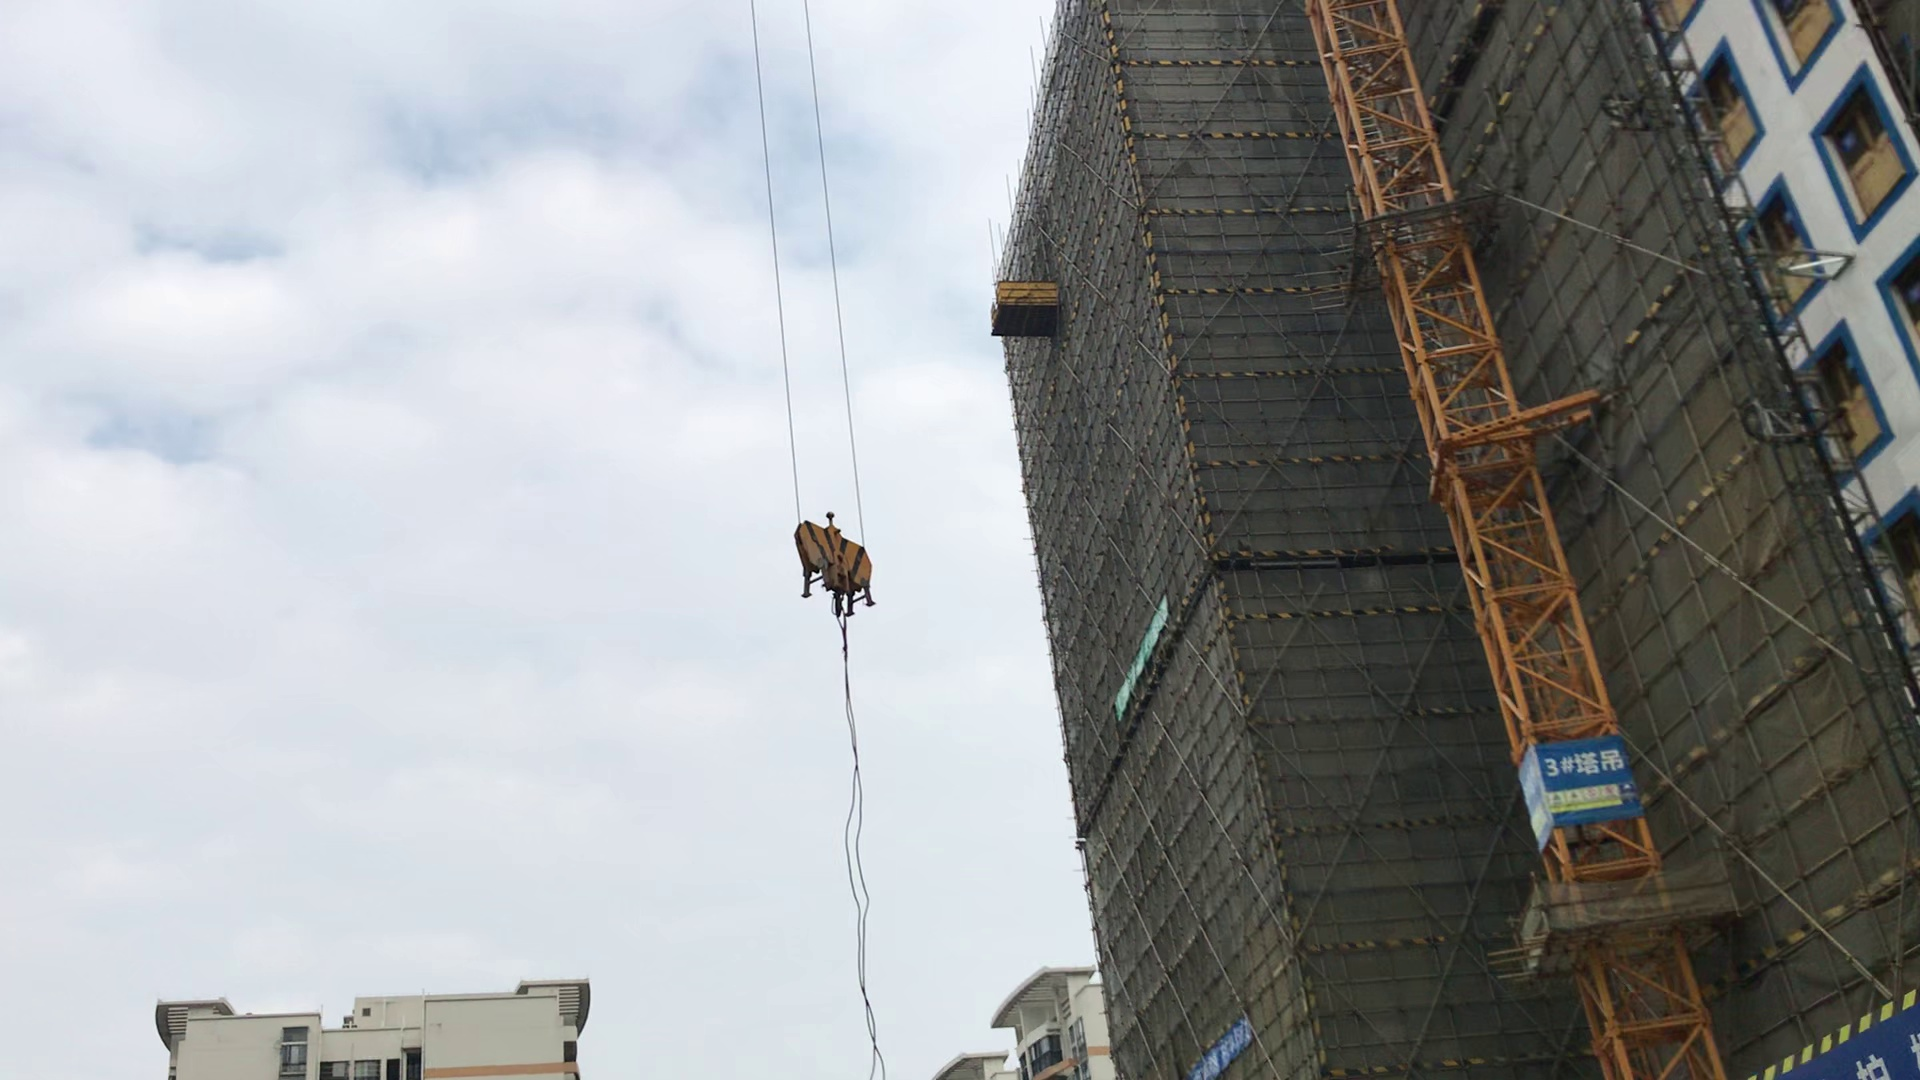hook: (779, 504, 889, 622)
slogan: (1112, 607, 1163, 723)
